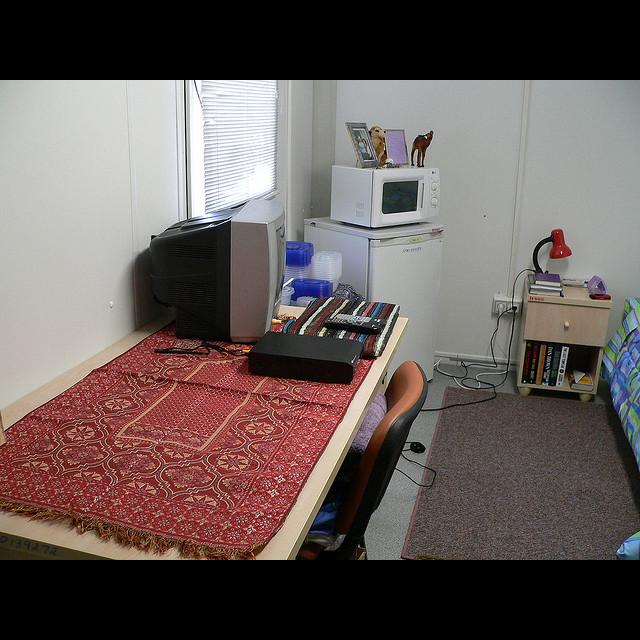Flat-Panel-TV: (152, 199, 287, 342)
Microwave: (332, 164, 440, 232)
Refrigerator: (302, 216, 447, 375)
TV-Remote-Control: (324, 316, 383, 335), (335, 313, 388, 326)
